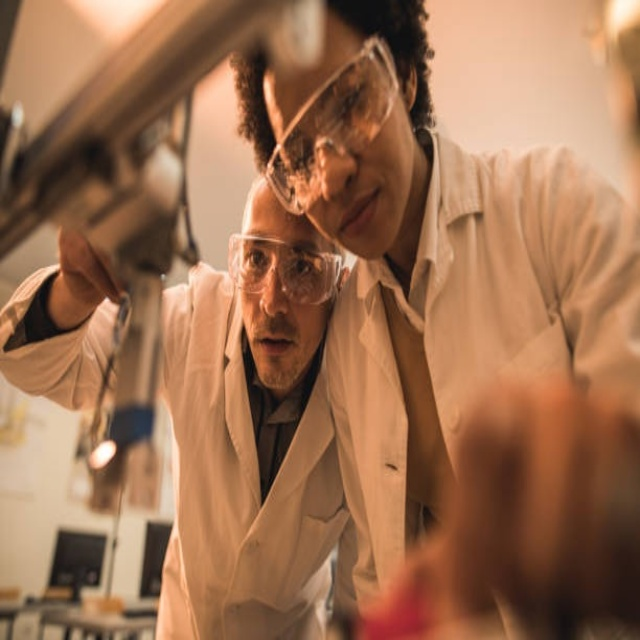Gafas: (264, 37, 399, 212), (229, 233, 343, 307)
Sin_guantes: (433, 371, 639, 638), (55, 224, 129, 321)
Sin_mascara: (337, 179, 393, 264), (252, 328, 300, 383)
